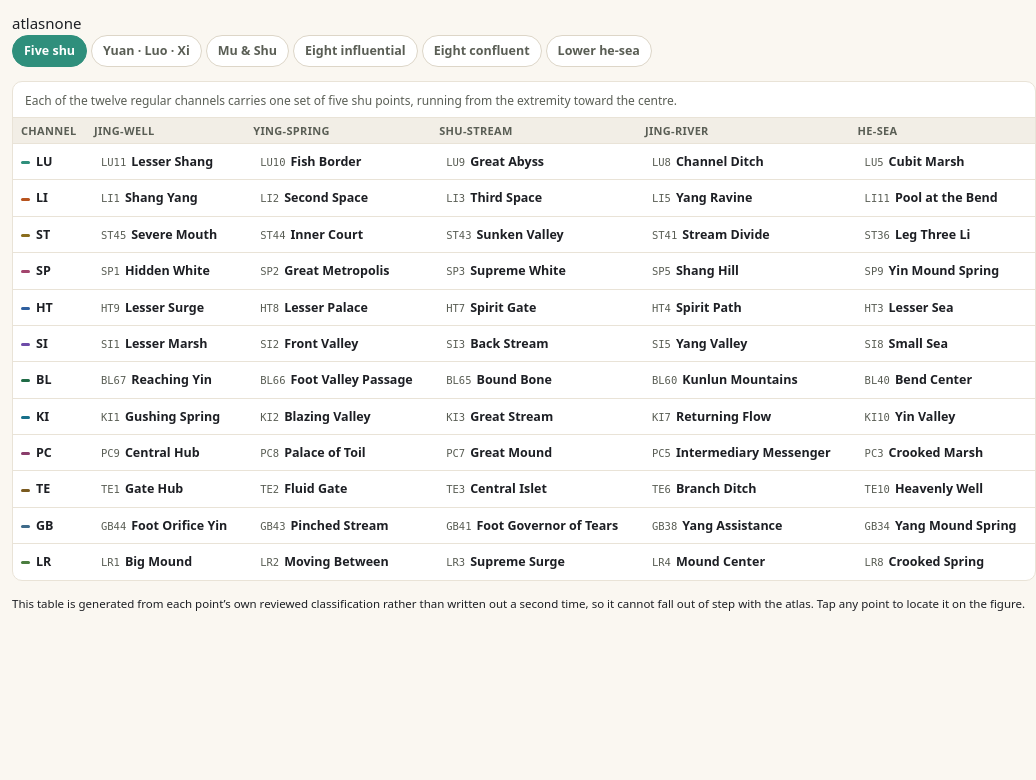
Test case: specific-point matrix → atlas handoff › sends the learner to the atlas with that point focused
Expected: the text with test id "route" reads "atlas", [12,13,45,33]
Expected: the text with test id "focus" reads "none", [45,13,81,33]
Note: 太淵 LU9 — the Lung's shu-stream, on the opening tab.
Click the button "LU9 Great Abyss".
click(534, 162)  # box [439,148,629,176]
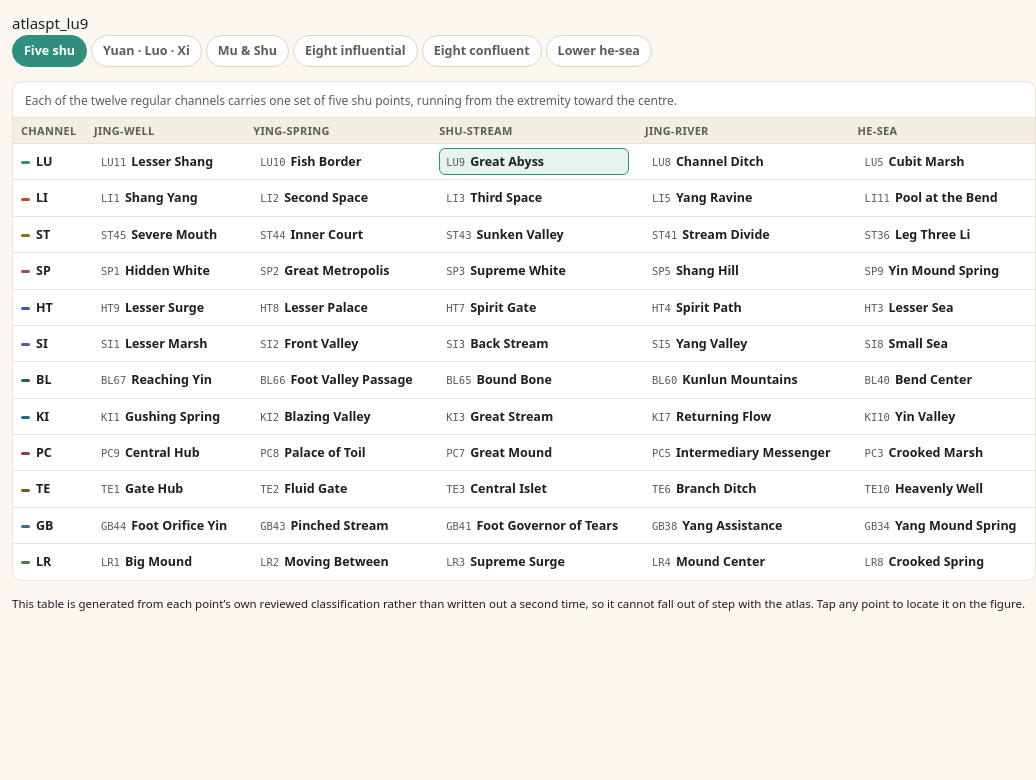
Expected: the text with test id "route" reads "atlas", [12,13,45,33]
Result: the text with test id "focus" reads "pt_lu9" at [45,13,88,33]
